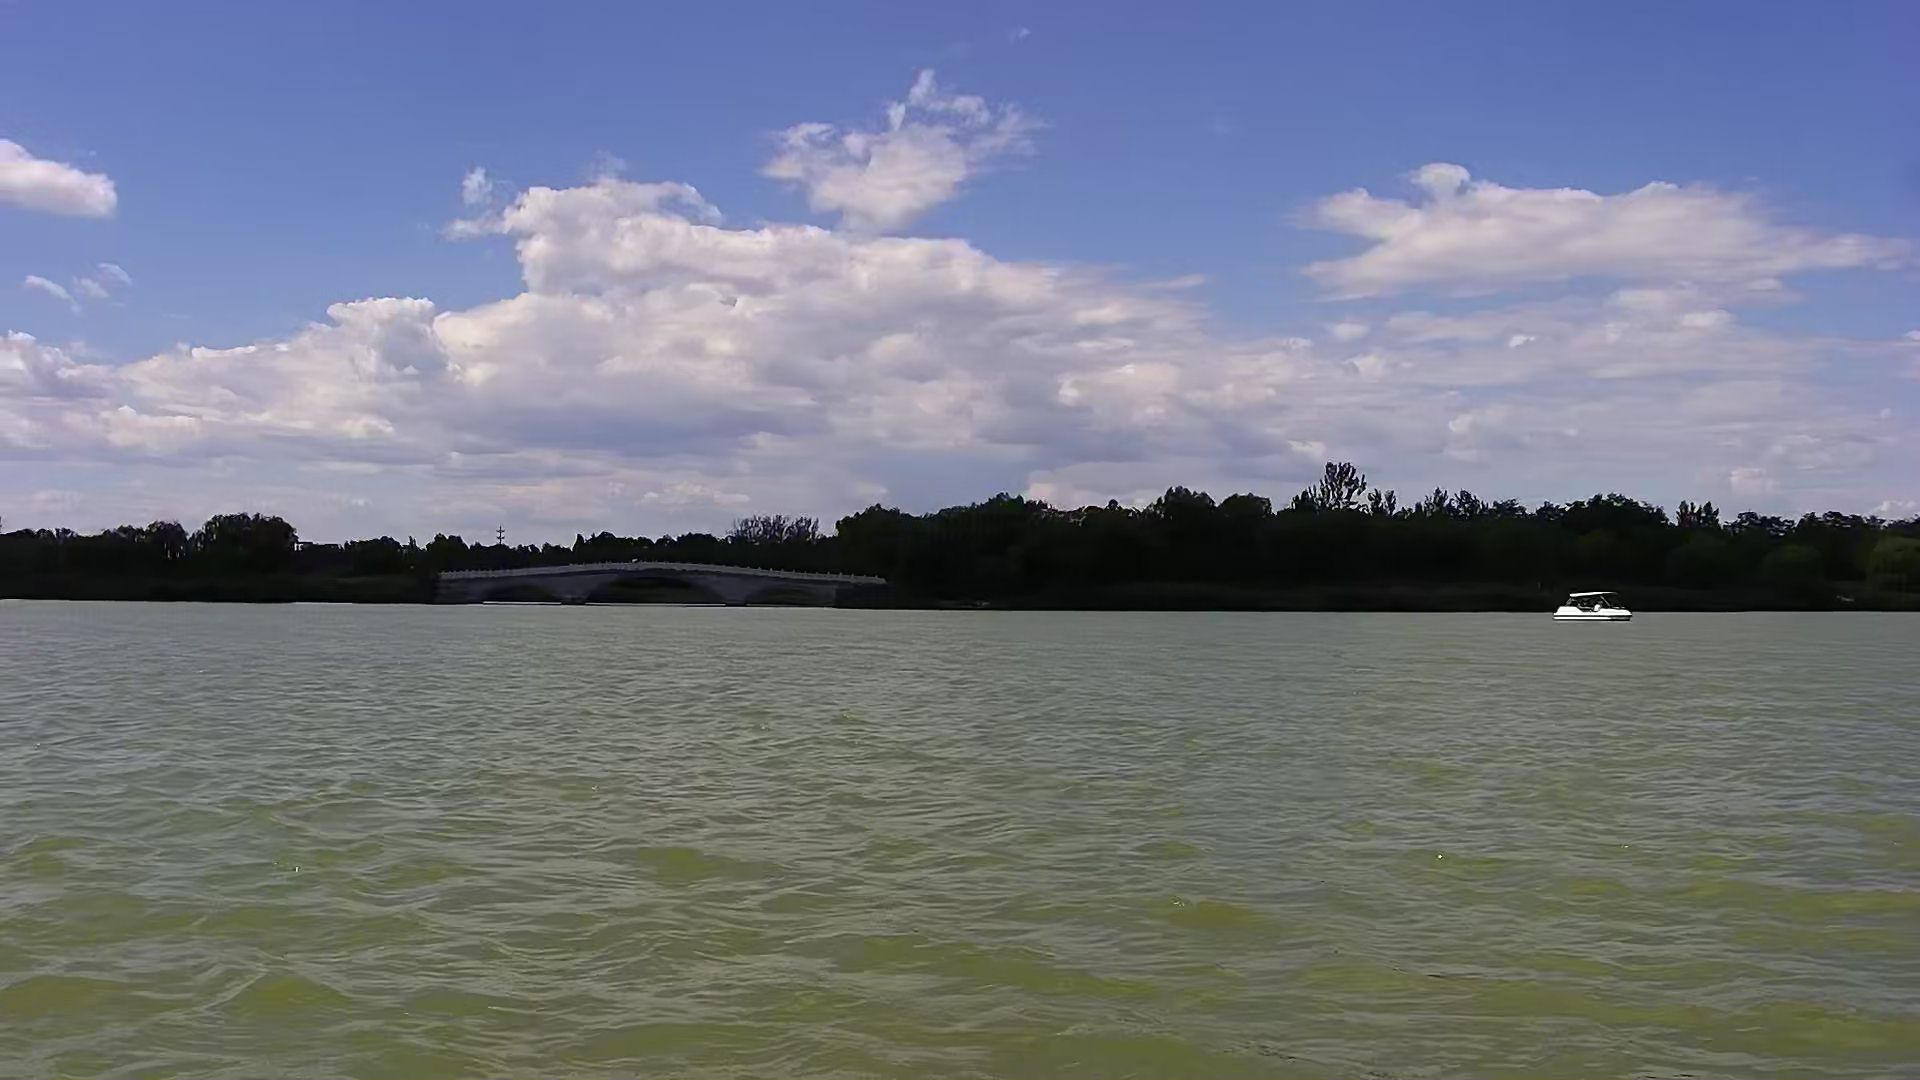boat: (1548, 585, 1631, 622)
bridge: (439, 556, 891, 613)
